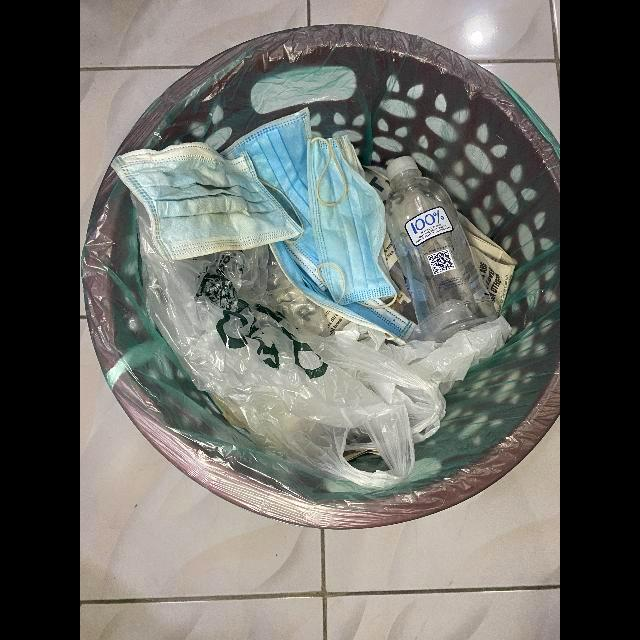paper: (458, 209, 515, 316)
plastic_bag: (132, 198, 511, 494)
plastic_bottle: (382, 155, 499, 344)
